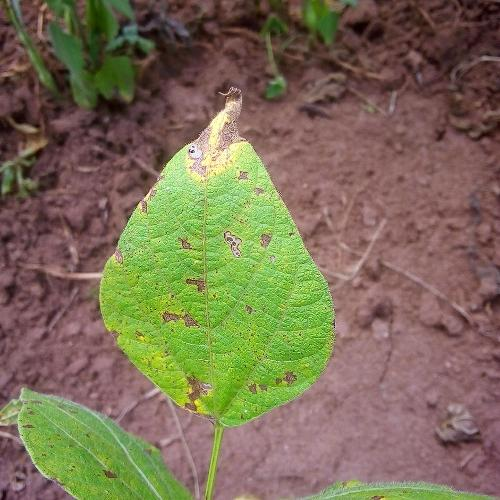hawar: (161, 348, 328, 415), (178, 84, 262, 190), (143, 228, 221, 317)
